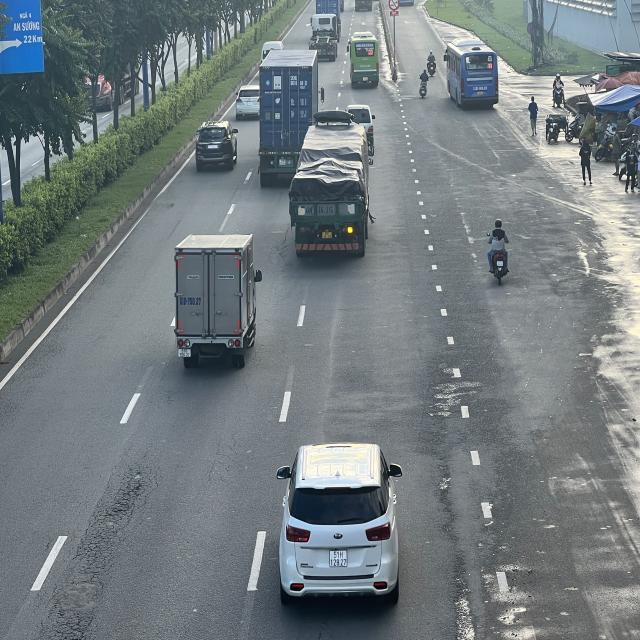car: (280, 446, 405, 606), (193, 121, 239, 171), (235, 84, 262, 121)
coach: (446, 40, 501, 107), (347, 31, 379, 88)
container: (258, 52, 323, 187), (309, 14, 340, 55)
truck: (290, 115, 375, 262), (174, 233, 262, 366)
